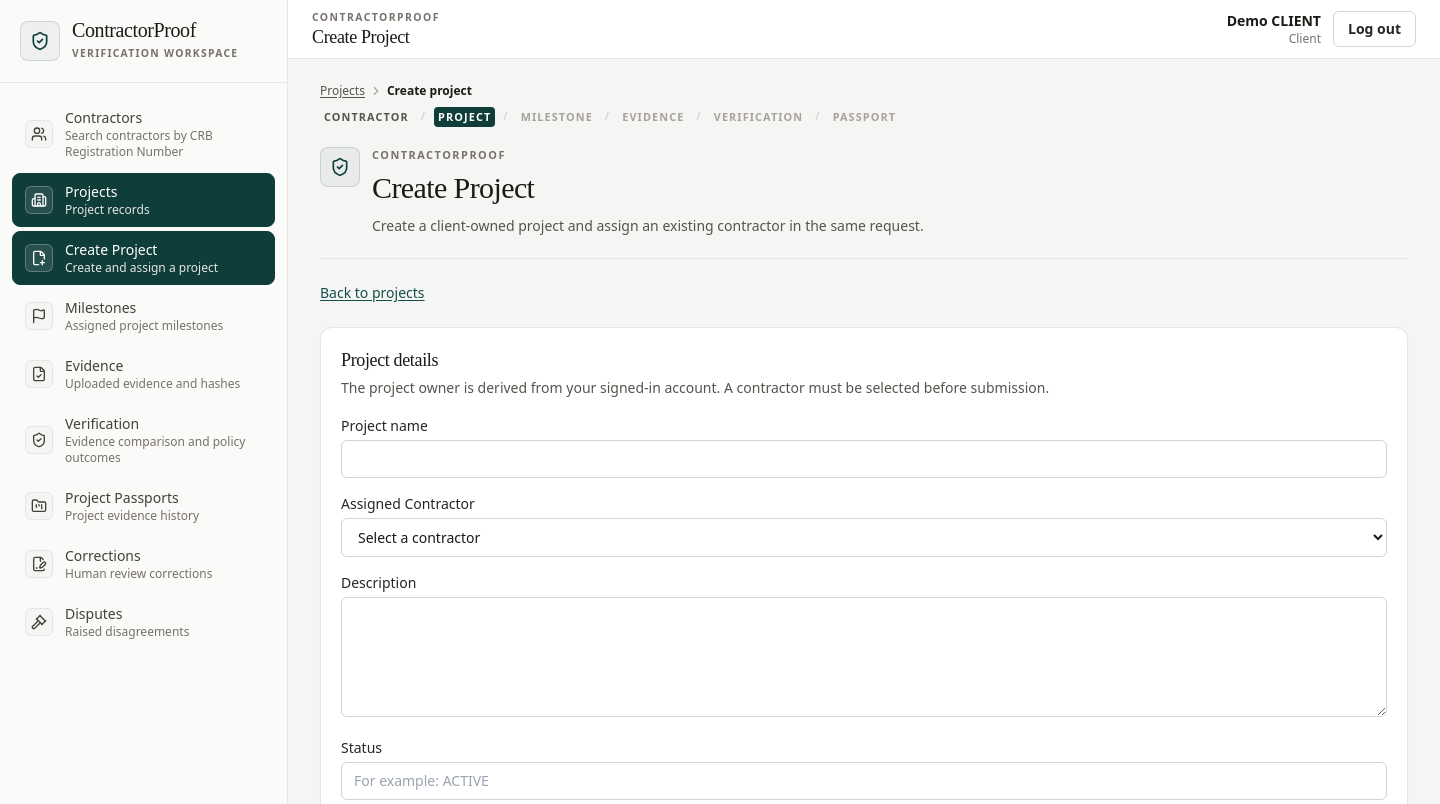
role-based project access › CLIENT › reaches the creation route and submits an assigned project
The width and height of the screenshot is (1440, 804).
Type "Harbor bridge deck" into the field labelled "Project name" at (864, 460), box [341,440,1387,478]
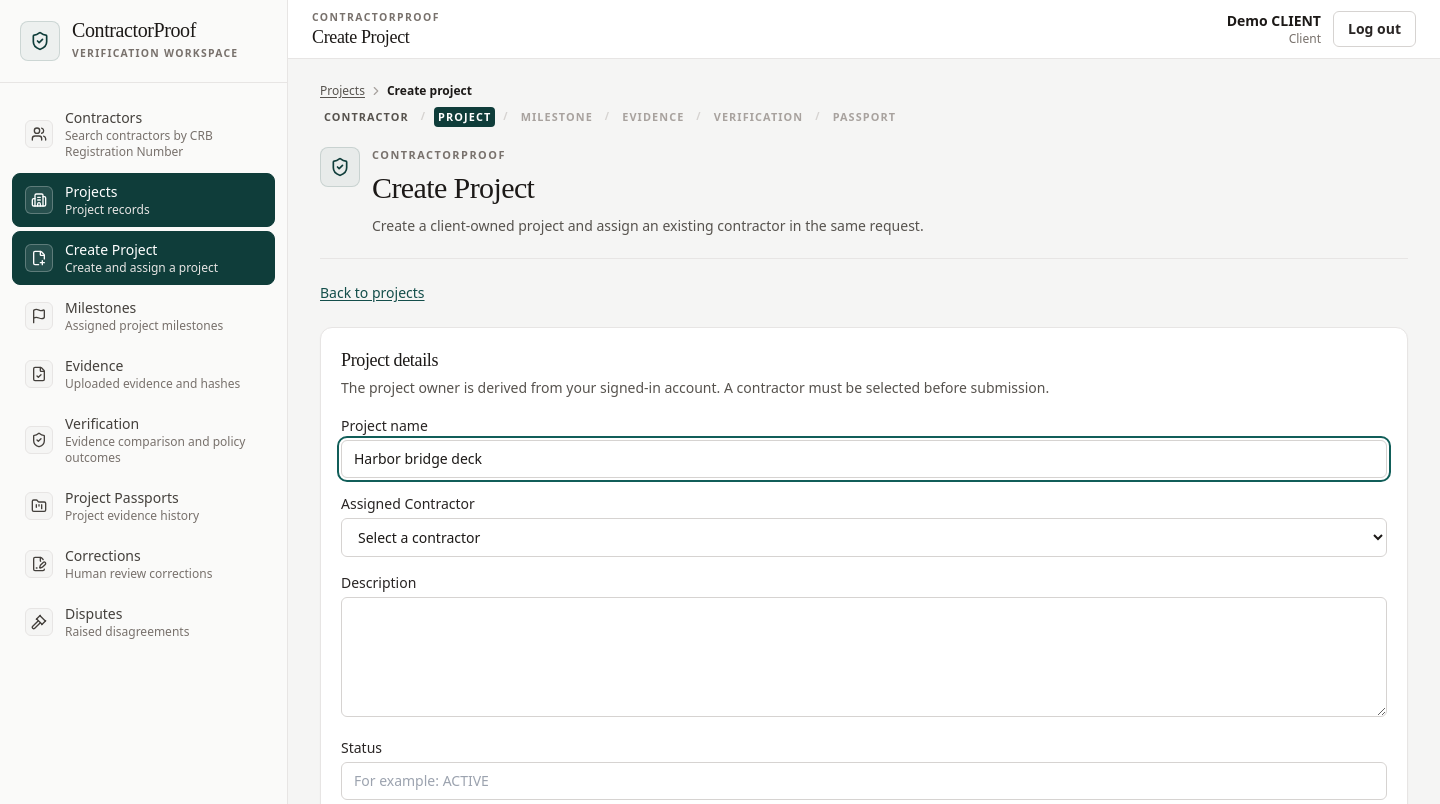
Select "Harbor Works Ltd · CRB-204" in the dropdown labelled "Assigned Contractor" at (864, 538), box [341,518,1387,558]
(page scrolled)
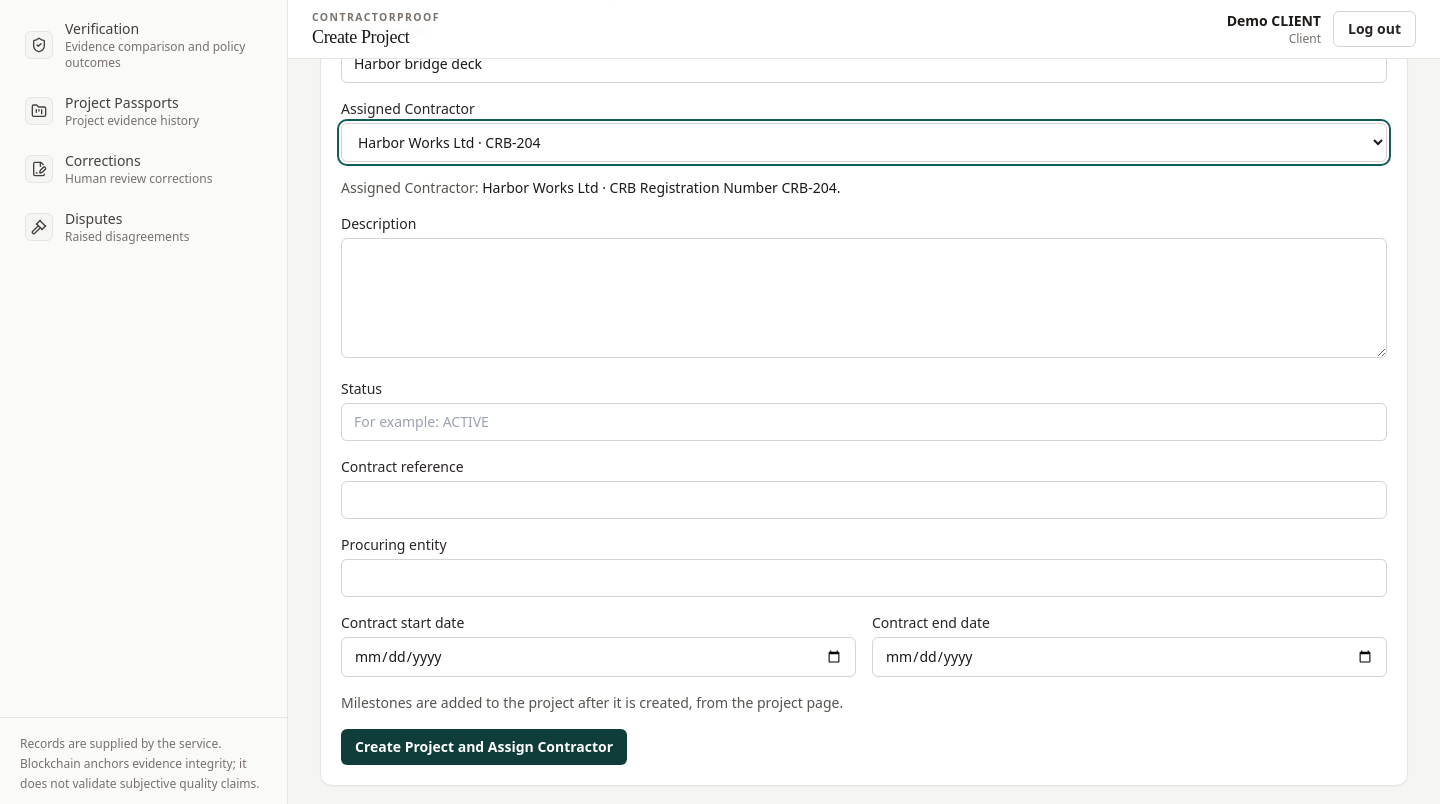
Click the button "Create Project and Assign Contractor" at (484, 748), box [341,730,627,766]
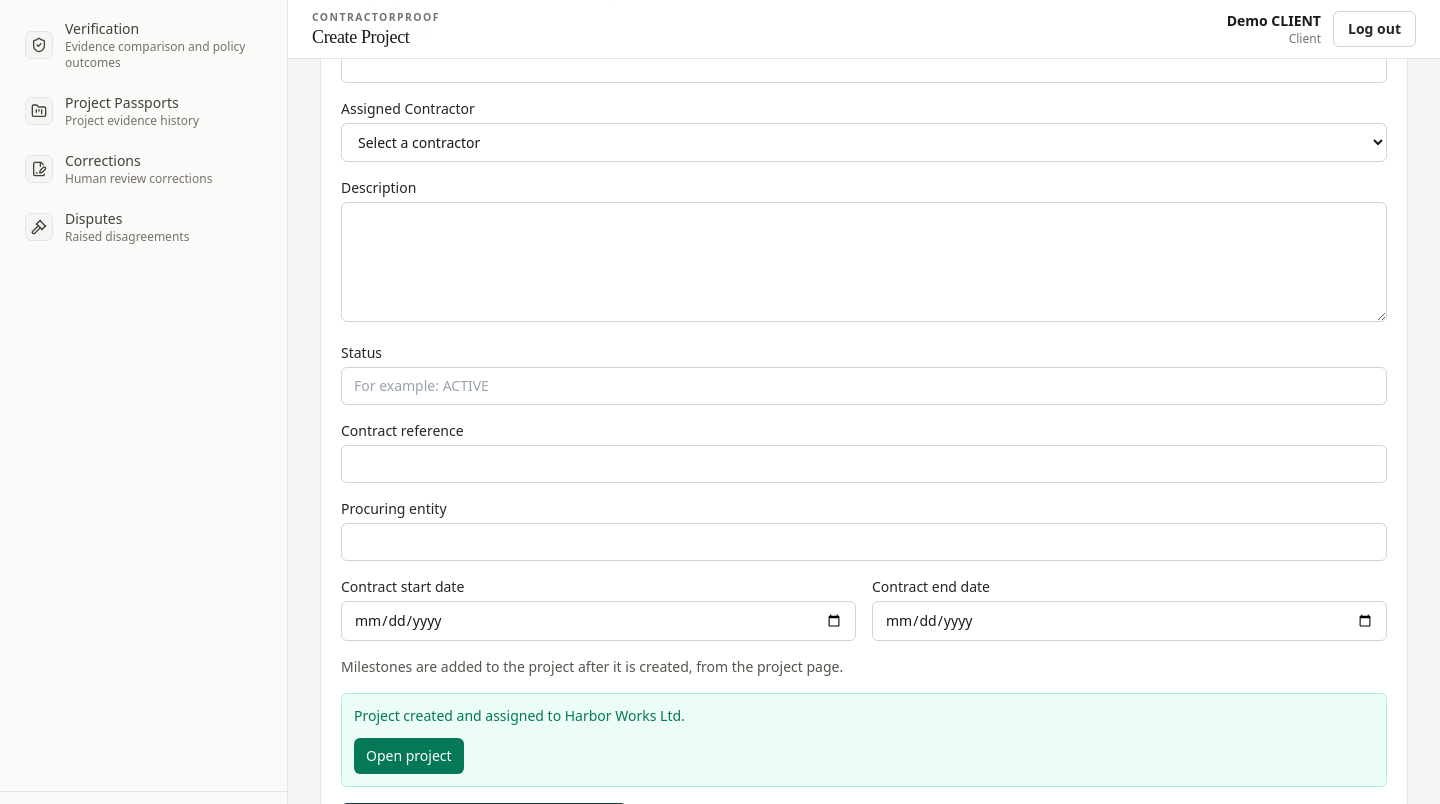
Expected: the text "Project created and assigned to Harbor Works Ltd." is shown, [354,706,685,726]
